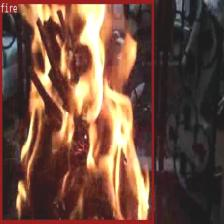fire: (0, 0, 153, 222)
